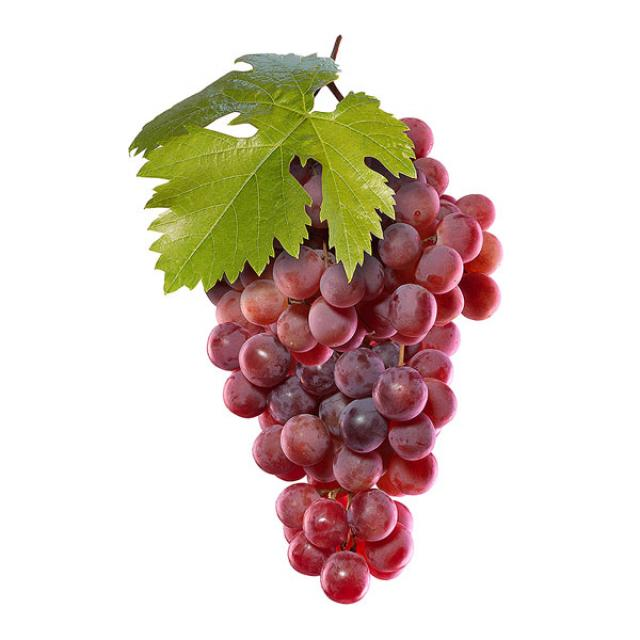grape: (194, 32, 506, 609)
